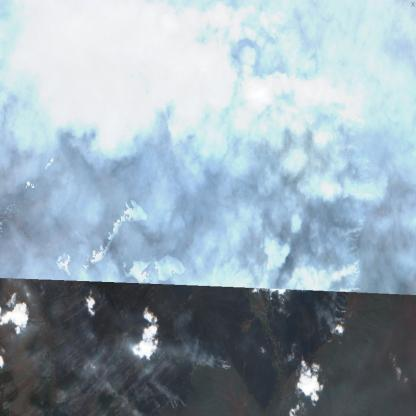fire: (314, 78, 376, 300)
